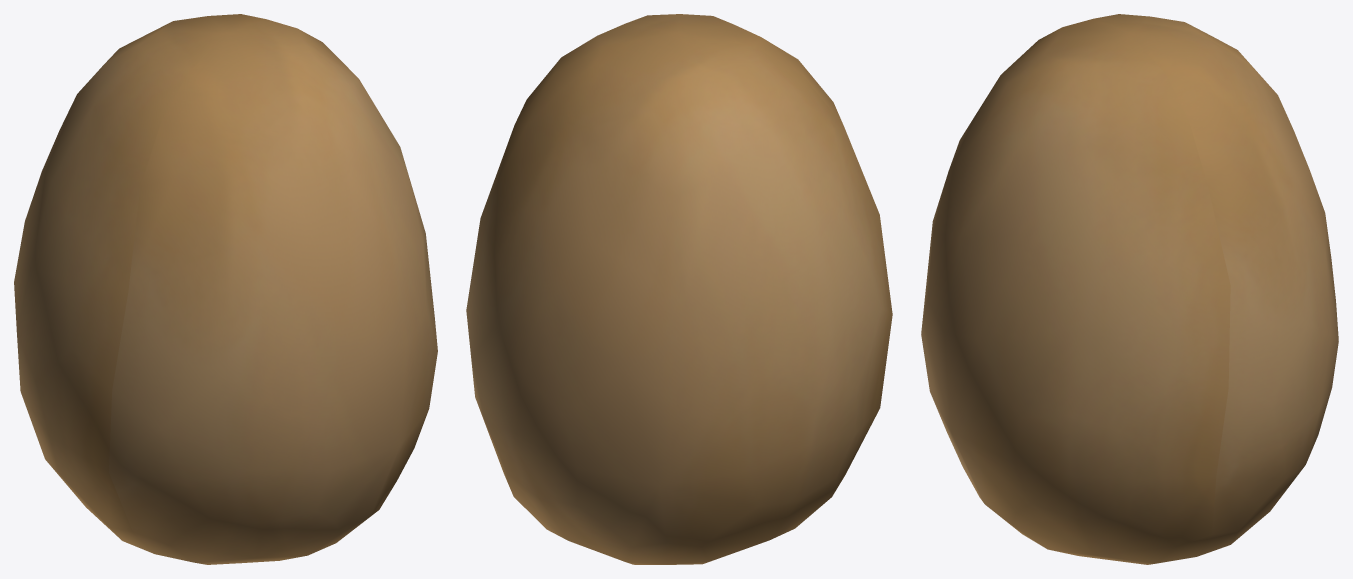
The model's file is Webo.fbx.
3 views of the same model, side by side, from view 1: azimuth 30°, elevation 25°; view 2: azimuth 150°, elevation 25°; view 3: azimuth 270°, elevation 25° (orthographic).
Visible parts, largest first — view 1: Huevo; view 2: Huevo; view 3: Huevo.
Boxes of the visible parts, x1,y1,x2,y2 form: Huevo: [14, 14, 437, 564]; Huevo: [466, 14, 892, 564]; Huevo: [921, 14, 1338, 564].
Bounding box in the file's own units: 144 × 190 × 144.
